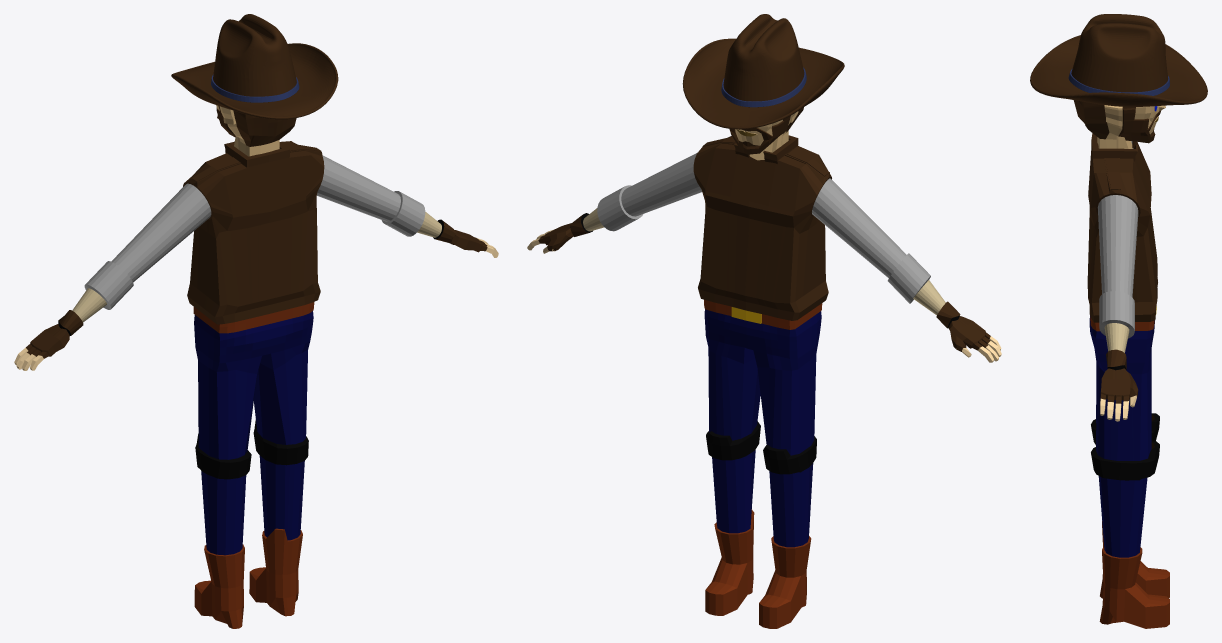
The model's file is malefix.fbx.
3 renders of one model, left to right at view 1: azimuth 30°, elevation 25°; view 2: azimuth 150°, elevation 25°; view 3: azimuth 270°, elevation 25°, orthographic. The views are drawn at different scales.
Visible parts, largest first — view 1: topi koboy; view 2: topi koboy; view 3: topi koboy.
Part boxes in pixels (box(x1,y1,x2,y2)): topi koboy: box(14, 14, 498, 628); topi koboy: box(527, 14, 1001, 628); topi koboy: box(1030, 14, 1207, 628).
Bounding box in the file's own units: 616 × 729 × 199.
